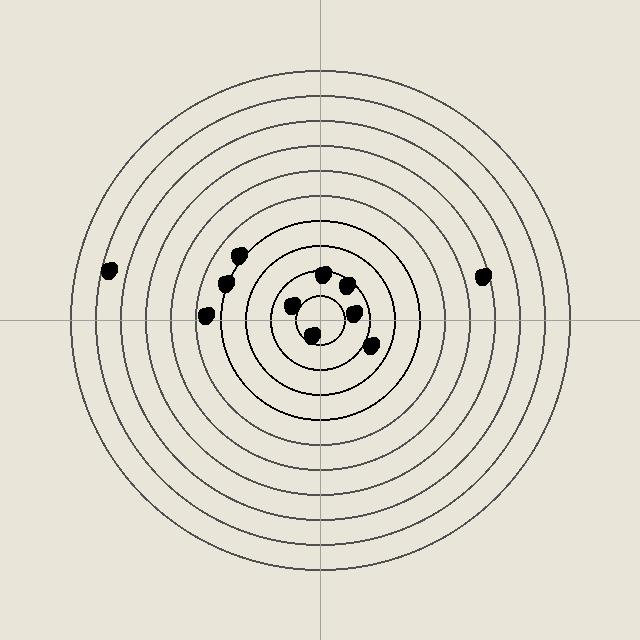horizontal_scatter: (228, 245, 248, 265), (215, 273, 235, 293), (312, 264, 332, 284), (343, 303, 363, 323), (301, 325, 321, 345), (336, 275, 356, 295), (360, 335, 380, 355), (281, 295, 301, 315), (98, 260, 118, 280), (195, 305, 215, 325), (472, 266, 492, 286)
